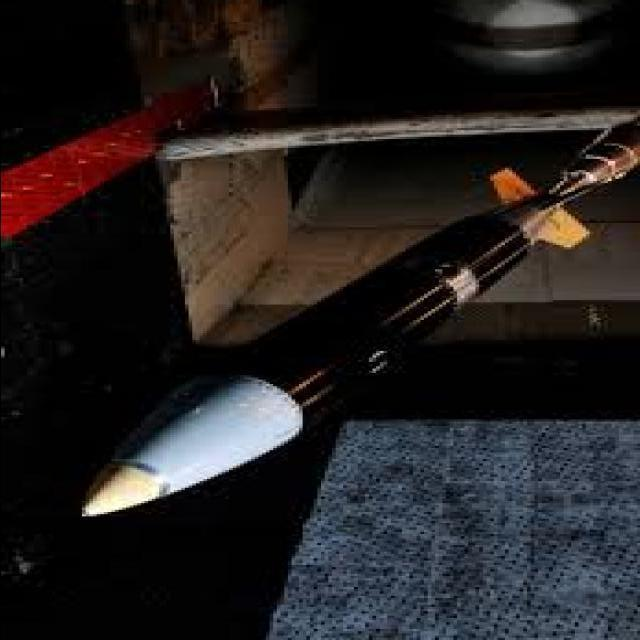missile: (77, 173, 588, 508)
